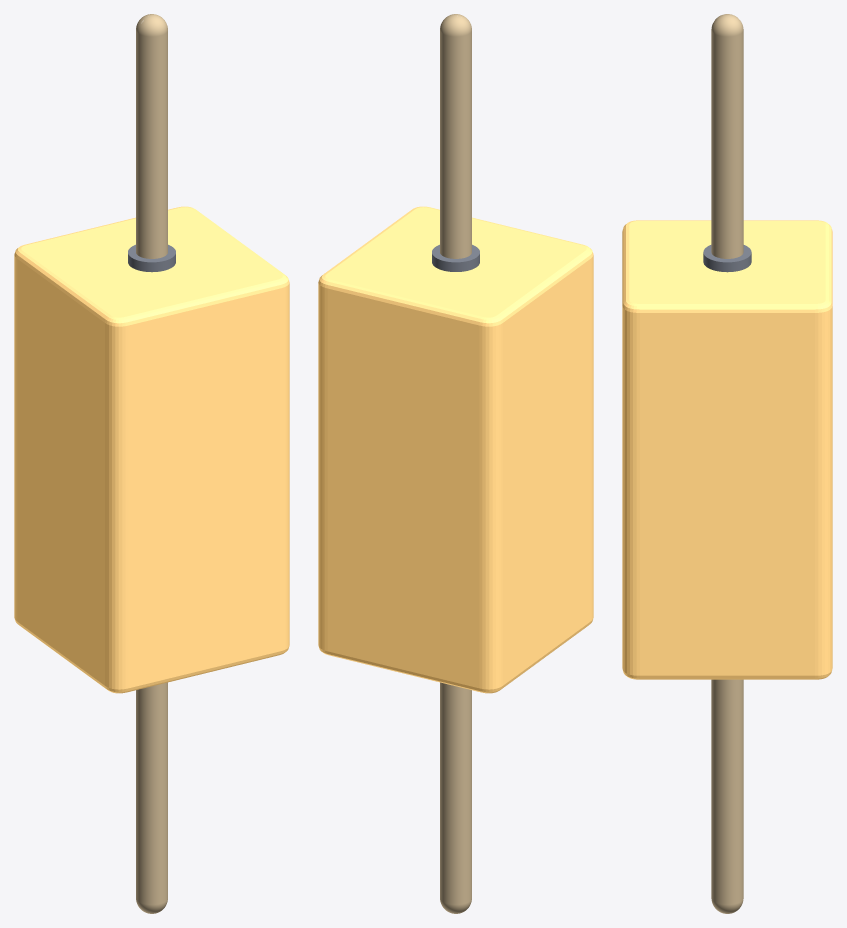
The model's file is candlestick-amber.glb.
The picture shows the model from 3 angles, left to right: view 1: azimuth 30°, elevation 25°; view 2: azimuth 150°, elevation 25°; view 3: azimuth 270°, elevation 25°; orthographic projection.
Parts seen in each view (by area): view 1: body_glass, wick_rod, collar_close; view 2: body_glass, wick_rod, collar_close; view 3: body_glass, wick_rod, collar_close.
Part boxes in pixels (box(x1,y1,x2,y2)): body_glass: box(14, 206, 289, 693); wick_rod: box(136, 14, 167, 913); collar_close: box(128, 244, 175, 272); body_glass: box(318, 206, 593, 693); wick_rod: box(440, 14, 471, 913); collar_close: box(432, 244, 479, 271); body_glass: box(622, 220, 832, 679); wick_rod: box(711, 14, 743, 913); collar_close: box(703, 245, 751, 272).
Size of the model in its own units: 0.68 by 3.2 by 0.68.
